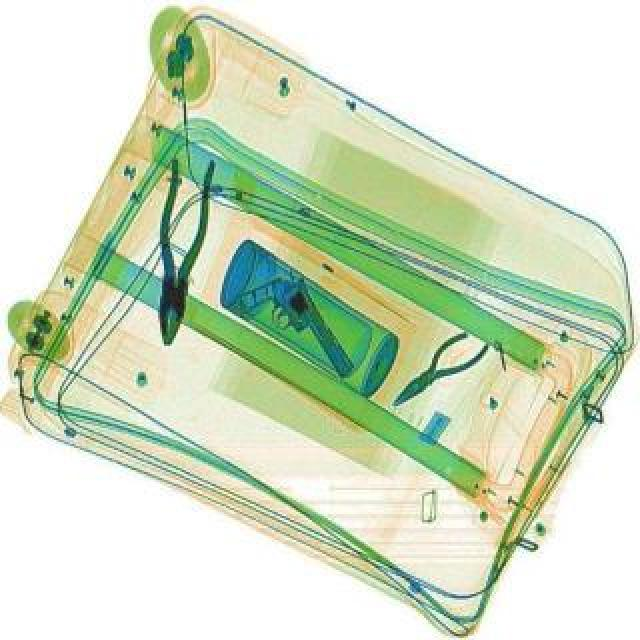gun: (234, 258, 358, 406)
wrench: (144, 156, 214, 348), (380, 322, 492, 416)
